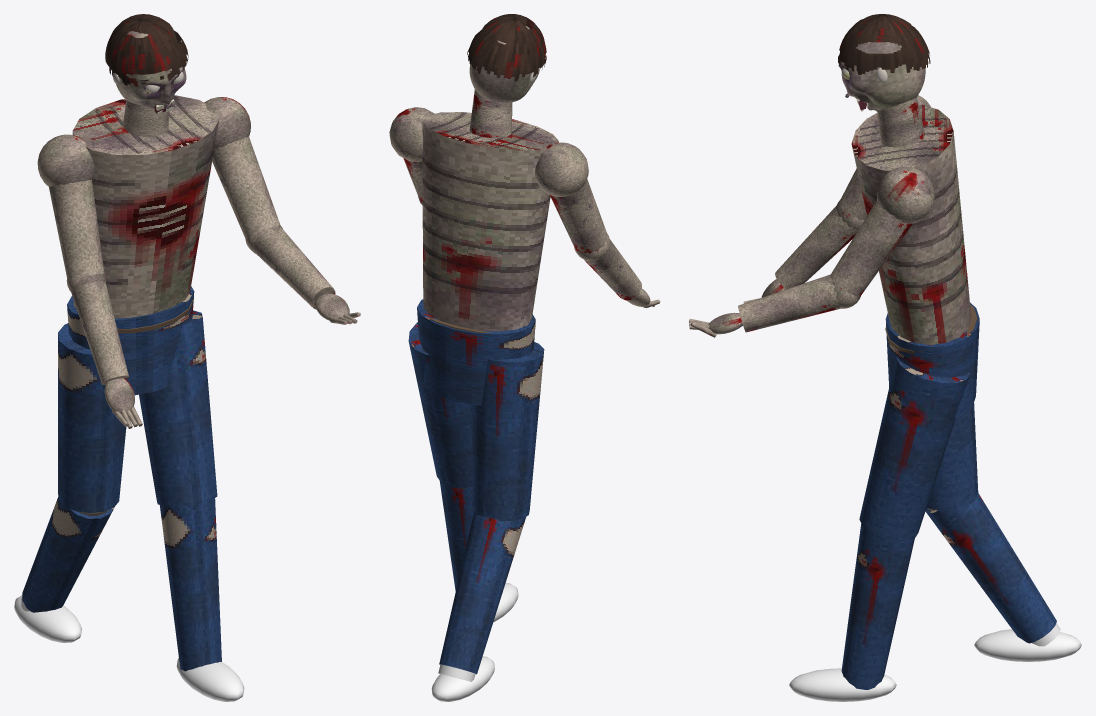
The model's file is Zombie_044.glb.
3 renders of one model, left to right at view 1: azimuth 30°, elevation 25°; view 2: azimuth 150°, elevation 25°; view 3: azimuth 270°, elevation 25°, orthographic. The views are drawn at different scales.
Parts seen in each view (by area): view 1: Zombie_044, object 42, object 3, object 10, object 16, object 4, object 11; view 2: Zombie_044, object 42, object 3, object 16; view 3: Zombie_044, object 42, object 10, object 16, object 3, object 41.
Boxes of the visible parts, x1=… form: Zombie_044: x1=14, y1=95, x2=280, y2=701; object 42: x1=105, y1=14, x2=188, y2=84; object 3: x1=71, y1=281, x2=128, y2=385; object 10: x1=253, y1=226, x2=335, y2=309; object 16: x1=116, y1=31, x2=186, y2=109; object 4: x1=104, y1=378, x2=134, y2=413; object 11: x1=315, y1=293, x2=349, y2=320; Zombie_044: x1=389, y1=89, x2=607, y2=701; object 42: x1=467, y1=14, x2=546, y2=79; object 3: x1=584, y1=239, x2=641, y2=300; object 16: x1=469, y1=26, x2=539, y2=102; Zombie_044: x1=789, y1=95, x2=1081, y2=701; object 42: x1=838, y1=14, x2=930, y2=71; object 10: x1=738, y1=274, x2=841, y2=332; object 16: x1=838, y1=42, x2=925, y2=112; object 3: x1=775, y1=206, x2=857, y2=289; object 41: x1=841, y1=38, x2=927, y2=74.
Bounding box in the file's own units: 0.5728 × 1.7 × 0.918.
Materials: 16 (6 with a texture image).
